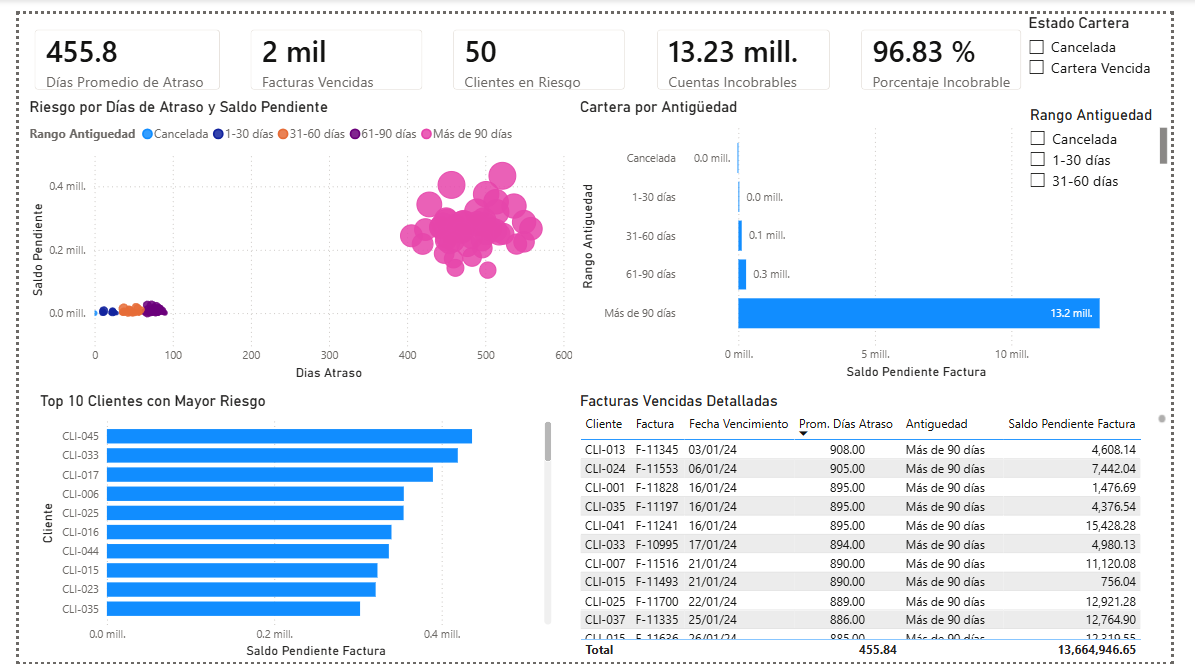

Layout of this report page (visuals, bound fields, positions):
{"tool":"powerbi","page":{"name":"Riesgo de Cartera","canvas":[1280,720],"ordinal":1},"visuals":[{"type":"cardVisual","fields":{"Data":["Saldos Cartera.Promedio Dias Atraso"]},"box":[0,0,240,101.2],"z":0},{"type":"cardVisual","fields":{"Data":["Saldos Cartera.Facturas Vencidas"]},"box":[240,0,225.7,101.2],"z":1000},{"type":"cardVisual","fields":{"Data":["Saldos Cartera.Clientes en Riesgo"]},"box":[465.7,0,225.7,101.2],"z":2000},{"type":"cardVisual","fields":{"Data":["Saldos Cartera.Cuentas Incobrables"]},"box":[691.3,0,226.6,101.2],"z":3000},{"type":"cardVisual","fields":{"Data":["Saldos Cartera.Porcentaje Incobrable"]},"box":[917.9,0,212.2,101.2],"z":4000},{"type":"barChart","title":"Cartera por Antigüedad","fields":{"Category":["Saldos Cartera.Rango Antiguedad"],"Y":["Hechos Cartera.Saldo Pendiente Factura"]},"box":[619,94,661,316],"z":5000},{"type":"barChart","title":"Top 10 Clientes con Mayor Riesgo","fields":{"Category":["Saldos Cartera.ID_Cliente"],"Y":["Hechos Cartera.Saldo Pendiente Factura"]},"box":[18,420,578,300],"z":6000},{"type":"scatterChart","title":"Riesgo por Días de Atraso y Saldo Pendiente","fields":{"Y":["Hechos Cartera.Saldo Pendiente Factura"],"Size":["Hechos Cartera.Monto Original Factura"],"Series":["Saldos Cartera.Rango Antiguedad"],"X":["Saldos Cartera.Promedio Dias Atraso"],"Category":["Saldos Cartera.ID_Cliente"]},"box":[6,93,613,317],"z":7000},{"type":"tableEx","title":"Facturas Vencidas Detalladas","fields":{"Values":["Saldos Cartera.ID_Cliente","Saldos Cartera.ID_Factura","Saldos Cartera.Fecha Vencimiento Corta","Saldos Cartera.Promedio Dias Atraso","Saldos Cartera.Rango Antiguedad","Hechos Cartera.Saldo Pendiente Factura"]},"box":[619,420,661,300],"z":8000},{"type":"listSlicer","fields":{"Values":["Saldos Cartera.Estado Cartera"]},"box":[1117,0,163,97],"z":9000},{"type":"listSlicer","fields":{"Values":["Saldos Cartera.Rango Antiguedad"]},"box":[1117.5,101.2,162.5,97.5],"z":10000}]}

Visuals, with their boxes in screenshot pixels (x1, y1, x2, y2), scaled from the page's 1280x720 canvas onto the 1195x664 screenshot:
cardVisual - Saldos Cartera.Promedio Dias Atraso: [0,0,224,93]
cardVisual - Saldos Cartera.Facturas Vencidas: [224,0,435,93]
cardVisual - Saldos Cartera.Clientes en Riesgo: [435,0,645,93]
cardVisual - Saldos Cartera.Cuentas Incobrables: [645,0,857,93]
cardVisual - Saldos Cartera.Porcentaje Incobrable: [857,0,1055,93]
"Cartera por Antigüedad" barChart: [578,87,1194,378]
"Top 10 Clientes con Mayor Riesgo" barChart: [17,387,556,663]
"Riesgo por Días de Atraso y Saldo Pendiente" scatterChart: [6,86,578,378]
"Facturas Vencidas Detalladas" tableEx: [578,387,1194,663]
listSlicer - Saldos Cartera.Estado Cartera: [1043,0,1194,89]
listSlicer - Saldos Cartera.Rango Antiguedad: [1043,93,1194,183]
